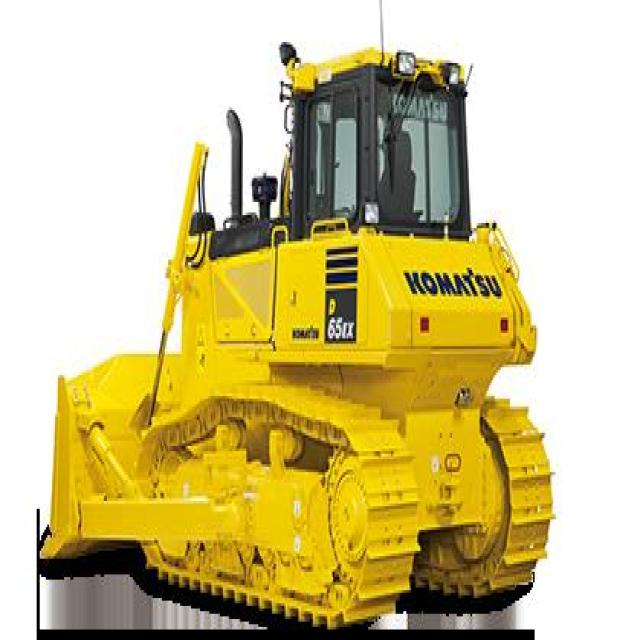buldozerpayloadergrader: (38, 16, 590, 632)
